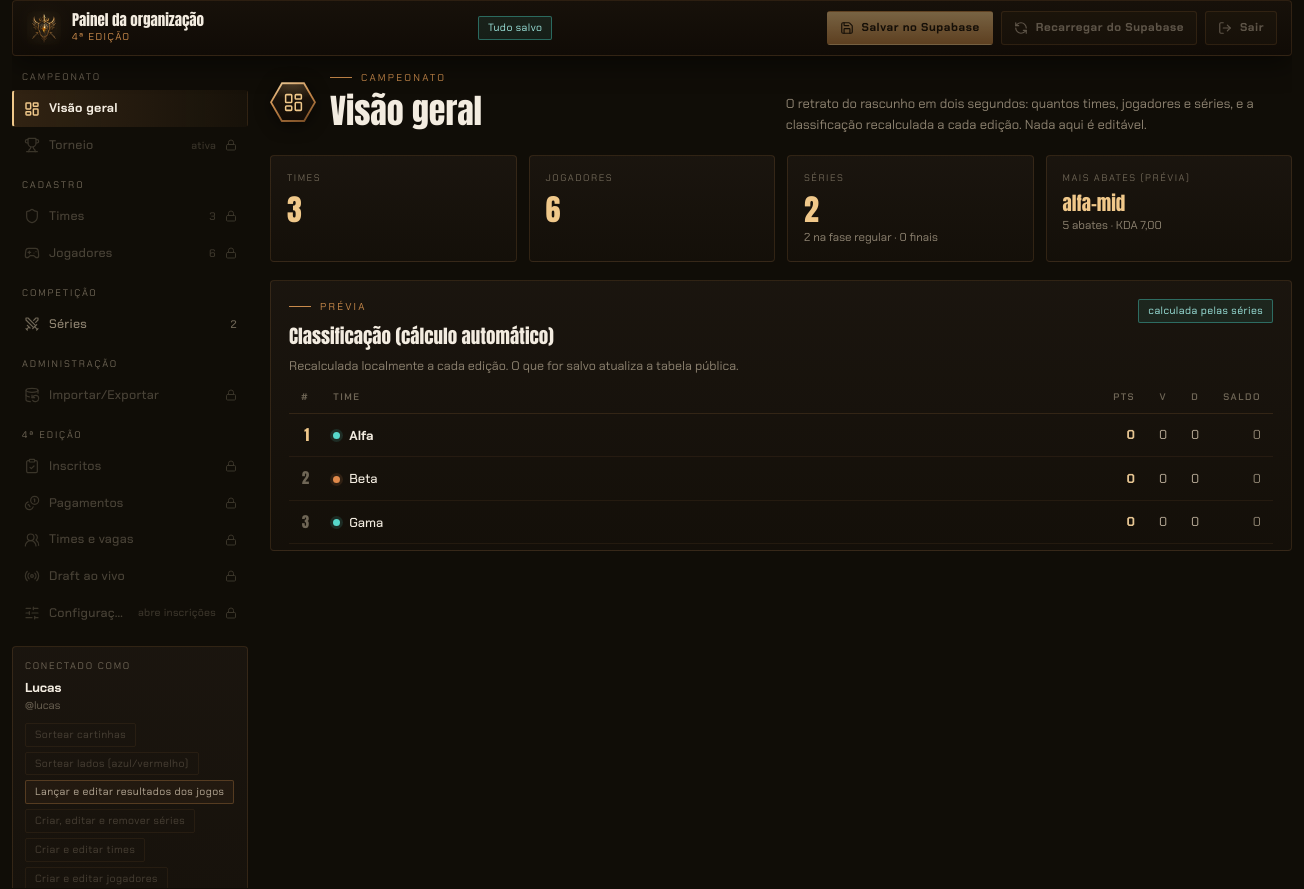
Test: falhas de rede e de plataforma (PNL-11) › queda de rede vira texto em português, e a resposta perdida não vira 'outra pessoa salvou'
Click the text "Séries" below "Competição": click(68, 324) [49, 316, 87, 332]
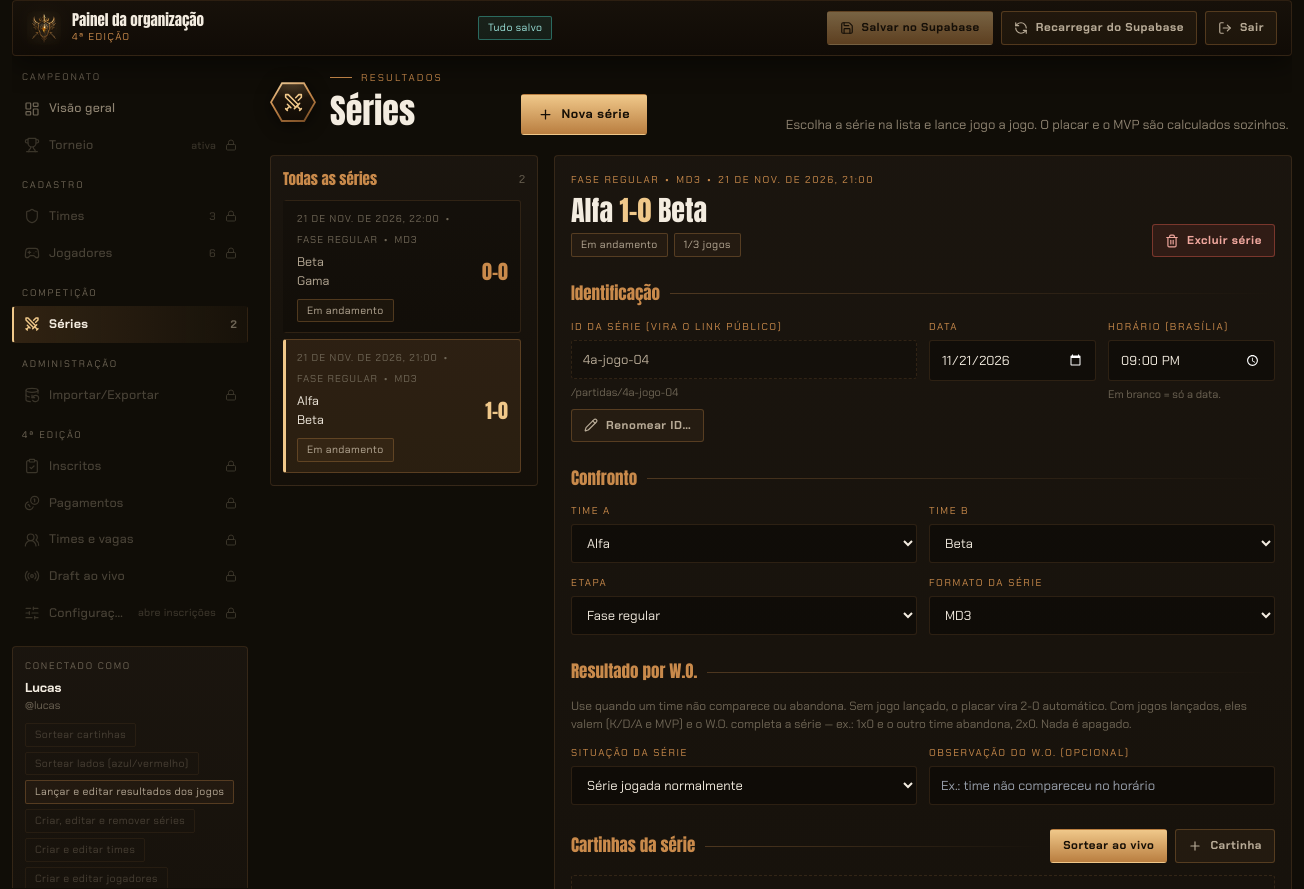
Click the button that starts with "21 de nov. de 2026, 21:00": click(402, 406) [283, 339, 521, 473]
(page scrolled)
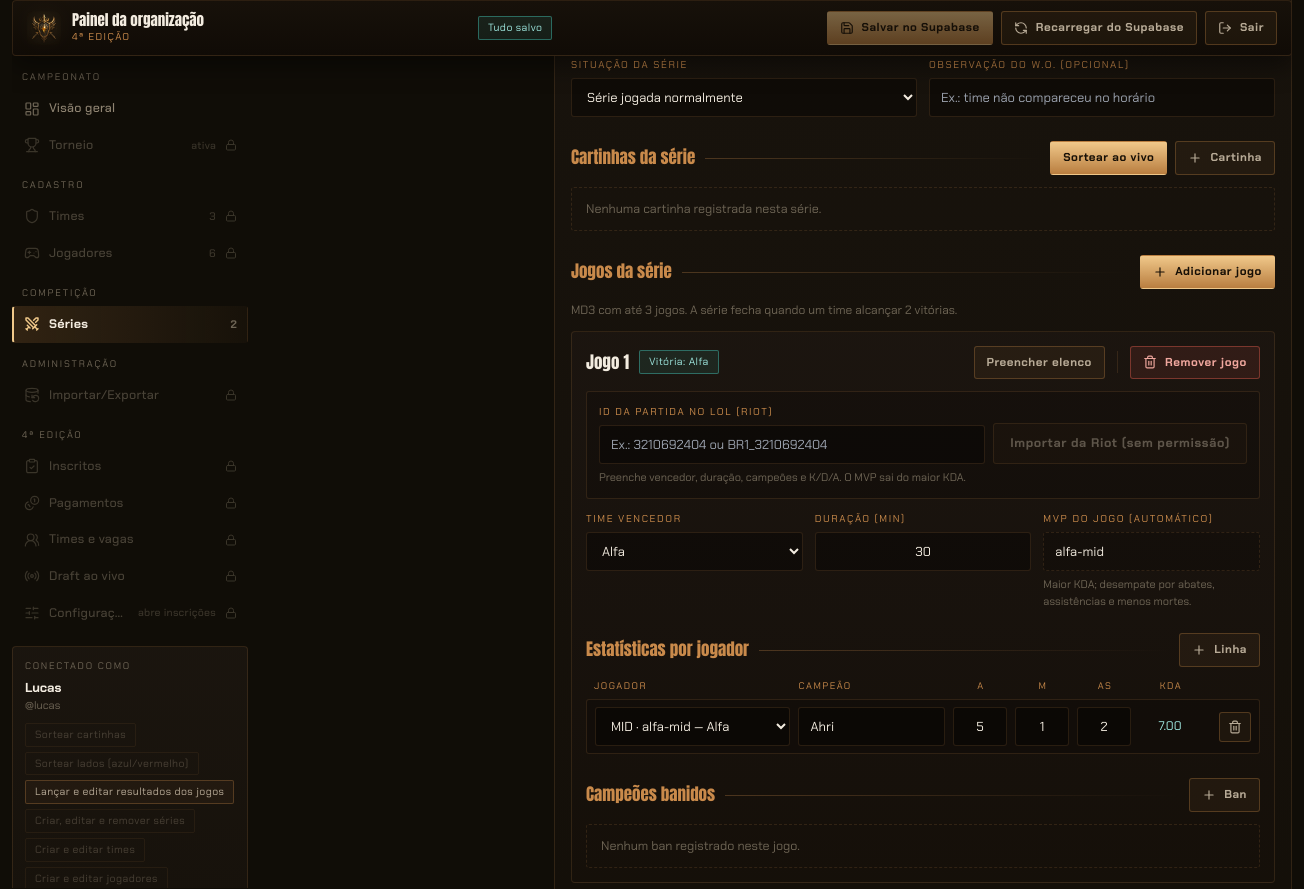
Replace the text in the field labelled "Duração (min)" with "38": (923, 552) [815, 532, 1031, 572]
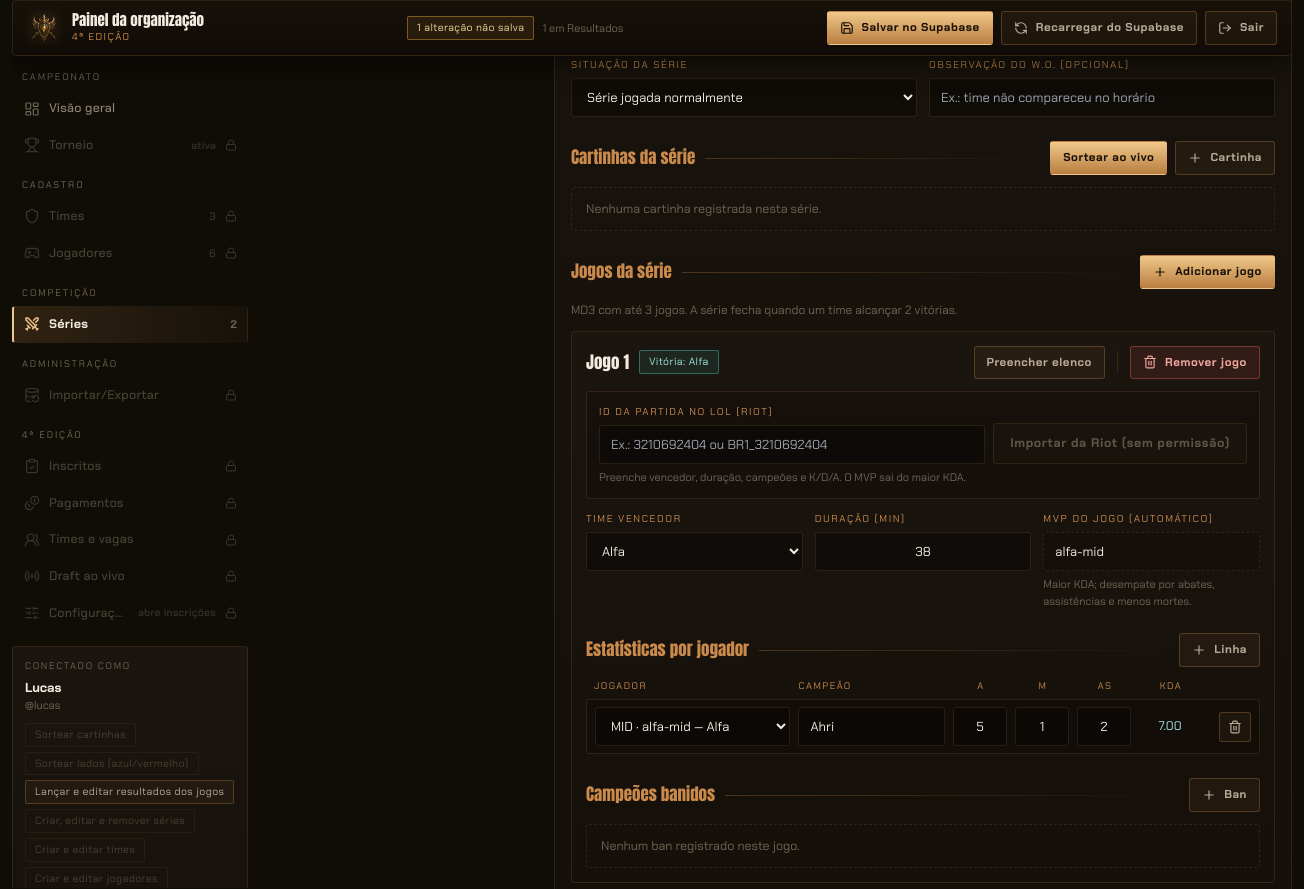
Click the button "Salvar no Supabase": click(910, 28) [827, 11, 993, 45]
(page scrolled)
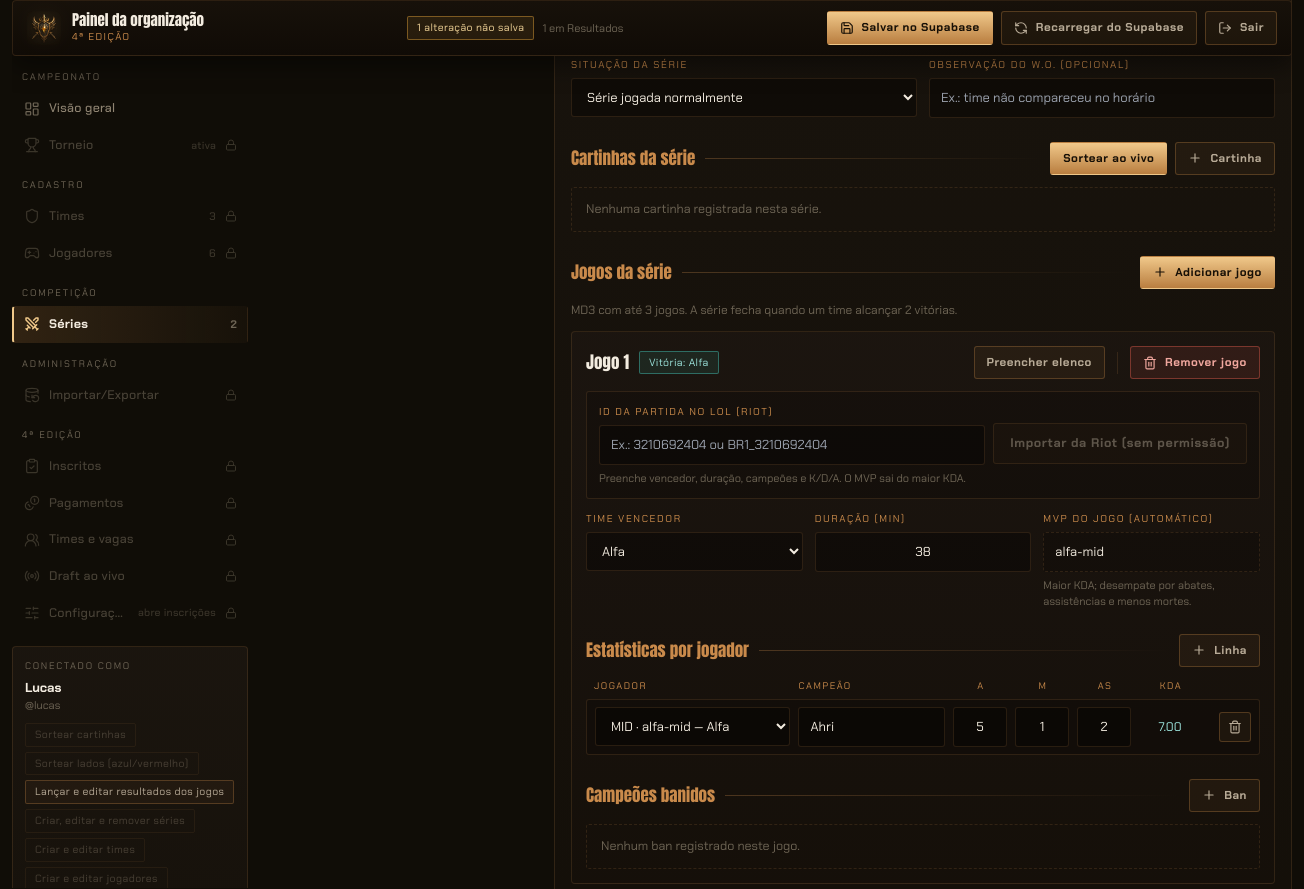
Result: the button "Salvar no Supabase" is enabled
Click the button "Salvar no Supabase": click(910, 28) [827, 11, 993, 45]
(page scrolled)
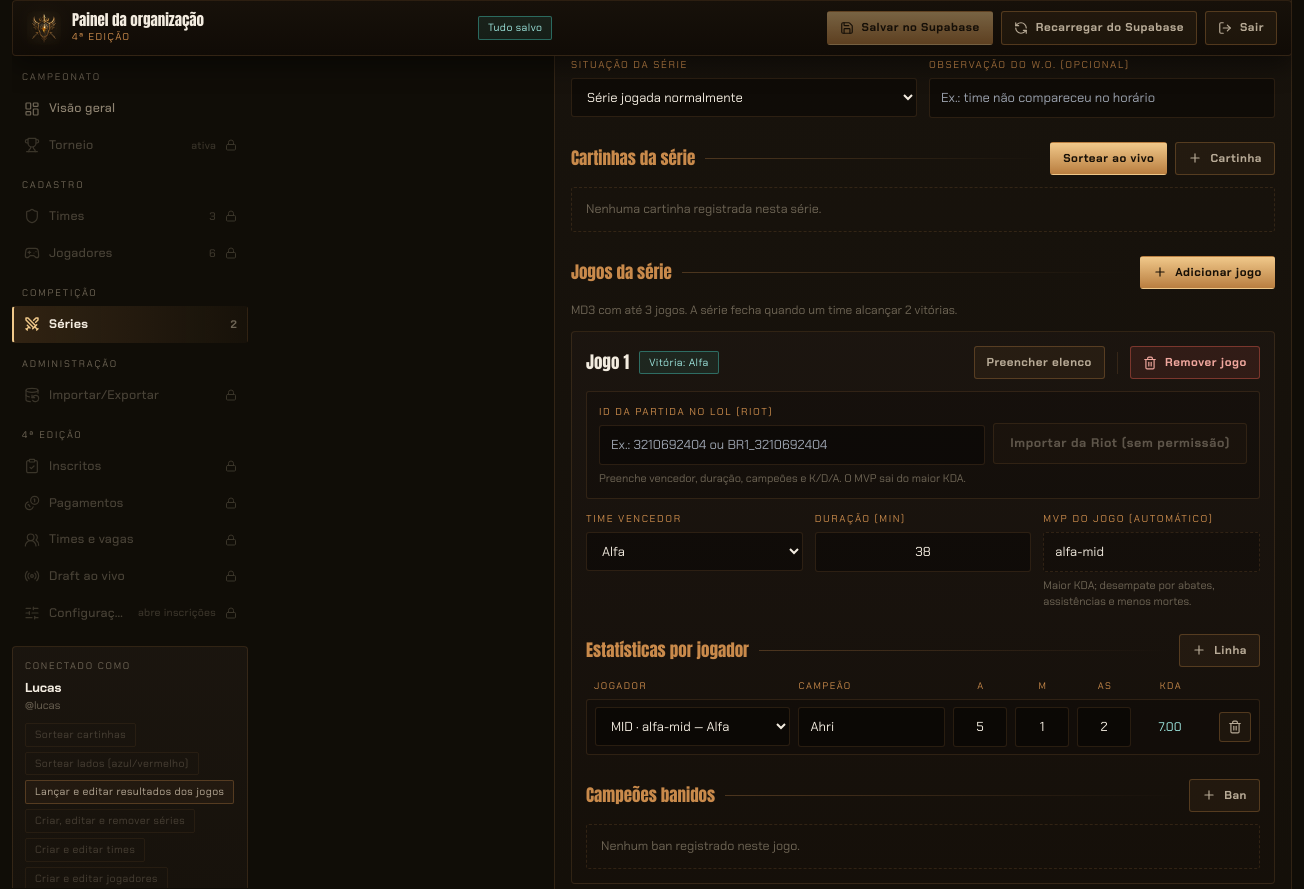
Result: the text "Tudo salvo" is shown at [478, 16, 552, 40]
